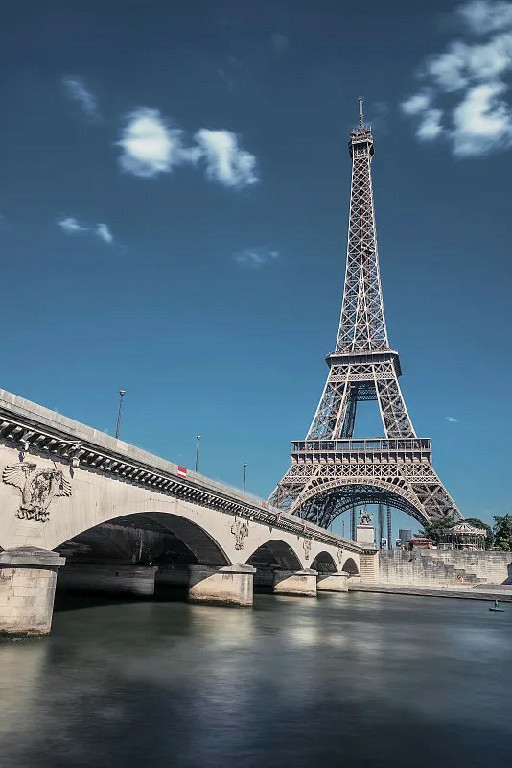Eiffel: (264, 98, 466, 533)
